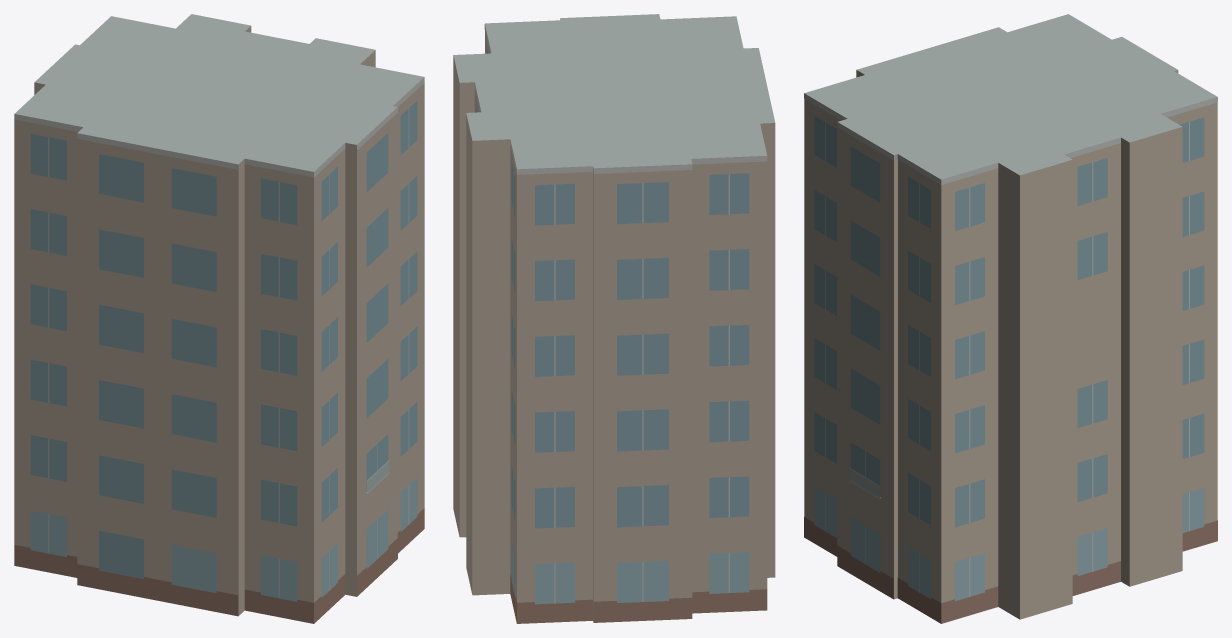
Rendered from survey-upis-32755528.glb.
The picture shows the model from 3 angles, left to right: view 1: azimuth 30°, elevation 25°; view 2: azimuth 150°, elevation 25°; view 3: azimuth 270°, elevation 25°; orthographic projection. The views are drawn at different scales.
Parts seen in each view (by area): view 1: survey-upis-32755528.tmp; view 2: survey-upis-32755528.tmp; view 3: survey-upis-32755528.tmp.
Part boxes in pixels (bbox=[...]): survey-upis-32755528.tmp: bbox=[14, 14, 424, 623]; survey-upis-32755528.tmp: bbox=[453, 14, 775, 623]; survey-upis-32755528.tmp: bbox=[804, 14, 1217, 623].
Size of the model in its own units: 15.77 by 19.7 by 16.64.
